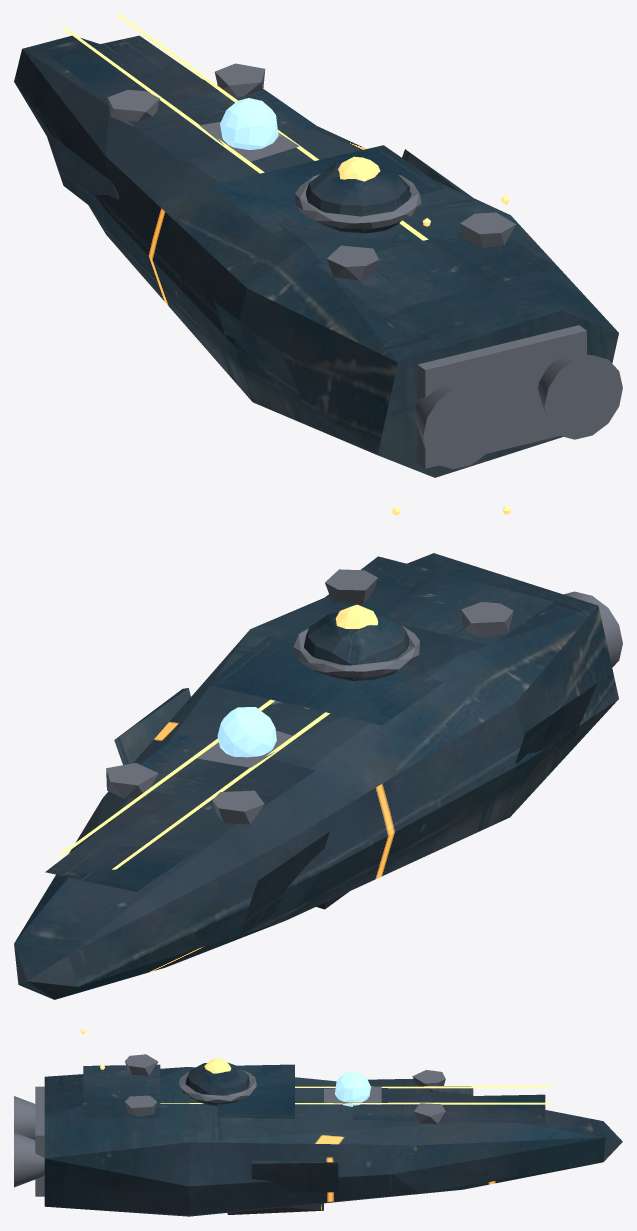
File: frigate_lod1.glb
The picture shows the model from 3 angles, top to bottom: view 1: azimuth 30°, elevation 25°; view 2: azimuth 150°, elevation 25°; view 3: azimuth 270°, elevation 25°; orthographic projection. The views are drawn at different scales.
Visible parts, largest first — view 1: Hull, ArmorPlates, EngineBlock, TurretBases, ShieldDome, Core, ShieldRing, EnergyStrips, CoreGrille, ShieldCore; view 2: Hull, ArmorPlates, TurretBases, ShieldDome, Core, ShieldRing, EnergyStrips, EngineBlock, CoreGrille, ShieldCore; view 3: Hull, ArmorPlates, EngineBlock, TurretBases, ShieldDome, EnergyStrips, Core, ShieldRing, Hangars, CoreGrille, ShieldCore.
Part boxes in pixels (<box>): Hull: <box>14,35,618,477</box>; ArmorPlates: <box>45,35,553,406</box>; EngineBlock: <box>414,325,622,469</box>; TurretBases: <box>107,63,515,280</box>; ShieldDome: <box>306,163,410,233</box>; Core: <box>220,98,278,149</box>; ShieldRing: <box>295,174,421,228</box>; EnergyStrips: <box>61,14,428,240</box>; CoreGrille: <box>199,121,299,161</box>; ShieldCore: <box>338,156,380,181</box>; Hull: <box>14,553,618,999</box>; ArmorPlates: <box>45,556,597,936</box>; TurretBases: <box>106,569,513,824</box>; ShieldDome: <box>304,612,408,680</box>; Core: <box>217,707,276,757</box>; ShieldRing: <box>293,626,419,677</box>; EnergyStrips: <box>58,699,329,869</box>; EngineBlock: <box>564,591,622,667</box>; CoreGrille: <box>197,730,292,767</box>; ShieldCore: <box>335,604,378,628</box>; Hull: <box>44,1067,622,1216</box>; ArmorPlates: <box>83,1064,545,1192</box>; EngineBlock: <box>14,1086,44,1196</box>; TurretBases: <box>125,1054,445,1123</box>; ShieldDome: <box>185,1062,249,1106</box>; EnergyStrips: <box>160,1086,550,1104</box>; Core: <box>335,1071,370,1106</box>; ShieldRing: <box>179,1070,257,1103</box>; Hangars: <box>227,1203,323,1214</box>; CoreGrille: <box>324,1086,381,1104</box>; ShieldCore: <box>204,1058,231,1073</box>.
Size of the model in its own units: 22.75 by 18.1 by 63.26.
Materials: 6 (2 with a texture image).
